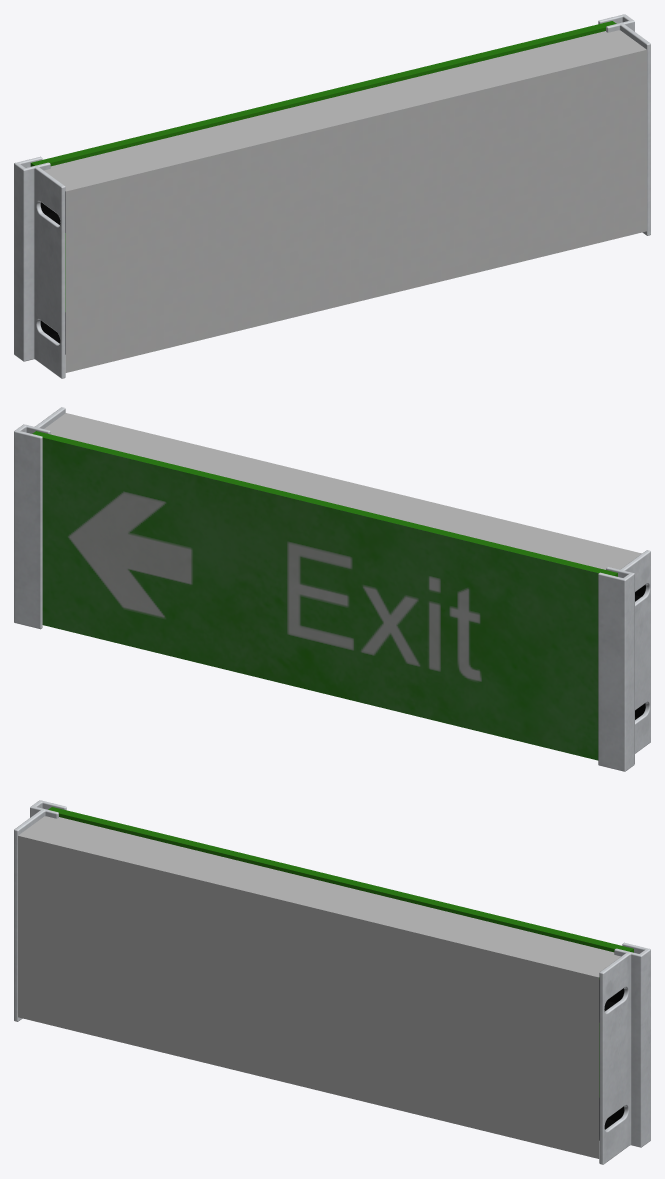
File: SM_Sign_Exit_01b.fbx
3 views of the same model, one above another, from view 1: azimuth 30°, elevation 25°; view 2: azimuth 150°, elevation 25°; view 3: azimuth 330°, elevation 25° (orthographic).
Parts seen in each view (by area): view 1: SM_Sign_Exit_01b; view 2: SM_Sign_Exit_01b; view 3: SM_Sign_Exit_01b.
Boxes of the visible parts, x1=… form: SM_Sign_Exit_01b: x1=14, y1=14, x2=650, y2=378; SM_Sign_Exit_01b: x1=14, y1=407, x2=650, y2=771; SM_Sign_Exit_01b: x1=14, y1=800, x2=650, y2=1164.
Size of the model in its own units: 84.47 by 8.88 by 25.35.
1 material, 1 textured.
